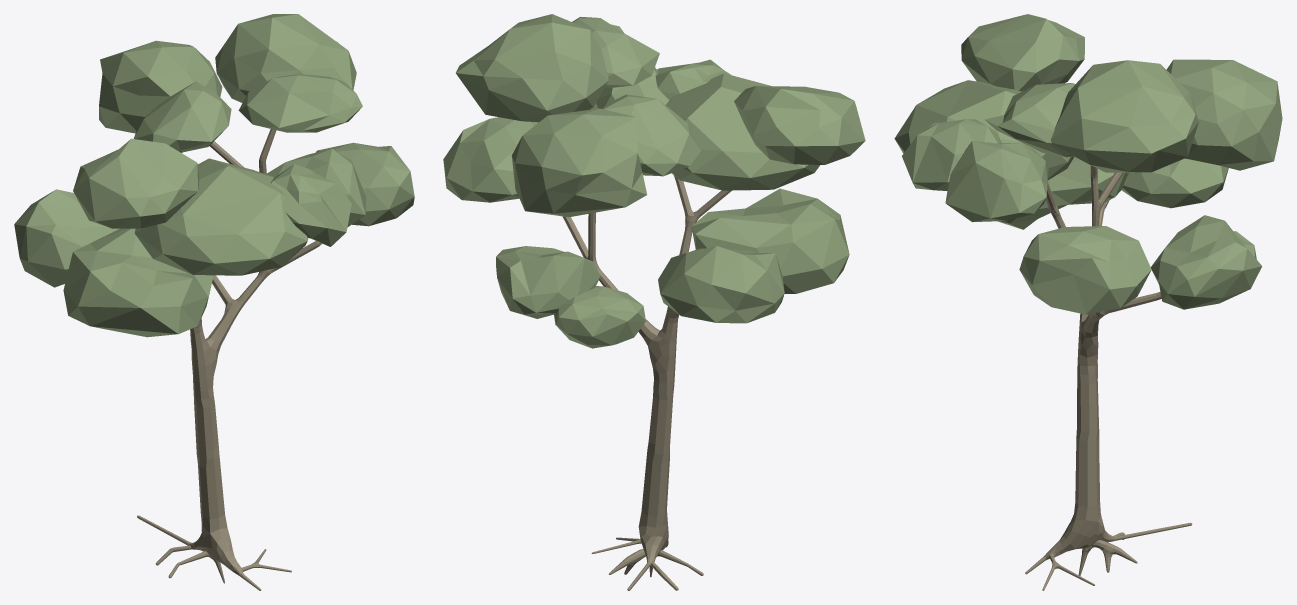
The model's file is Beech3NA.fbx.
3 renders of one model, left to right at view 1: azimuth 30°, elevation 25°; view 2: azimuth 150°, elevation 25°; view 3: azimuth 270°, elevation 25°, orthographic. The views are drawn at different scales.
Parts seen in each view (by area): view 1: Icosphere.033, Icosphere.036, Cube.002, Icosphere.034, Icosphere.030, Icosphere.027, Icosphere.029, Icosphere.035, Icosphere.028, Icosphere.031, Icosphere.026, Icosphere.032; view 2: Icosphere.027, Icosphere.030, Icosphere.036, Cube.002, Icosphere.033, Icosphere.034, Icosphere.035, Icosphere.025, Icosphere.026, Icosphere.028, Icosphere.024, Icosphere.029 (+2 smaller); view 3: Icosphere.030, Icosphere.027, Icosphere.026, Cube.002, Icosphere.034, Icosphere.025, Icosphere.032, Icosphere.033, Icosphere.031, Icosphere.035, Icosphere.029, Icosphere.036.
Boxes of the visible parts, x1,y1,x2,y2 form: Icosphere.033: (134,158,308,275); Icosphere.036: (63,228,213,337); Cube.002: (137,129,321,590); Icosphere.034: (73,138,199,228); Icosphere.030: (215,14,356,102); Icosphere.027: (99,40,222,133); Icosphere.029: (238,74,362,132); Icosphere.035: (14,189,119,287); Icosphere.028: (133,81,231,152); Icosphere.031: (271,164,351,246); Icosphere.026: (316,142,414,226); Icosphere.032: (266,148,366,227); Icosphere.027: (511,108,647,217); Icosphere.030: (456,14,608,122); Icosphere.036: (691,188,849,293); Cube.002: (562,175,731,590); Icosphere.033: (666,73,819,190); Icosphere.034: (734,86,865,164); Icosphere.035: (658,246,784,323); Icosphere.025: (496,246,600,318); Icosphere.026: (443,117,538,202); Icosphere.028: (603,94,701,176); Icosphere.024: (554,286,645,348); Icosphere.029: (572,16,659,87); Icosphere.030: (1051,60,1198,172); Icosphere.027: (1166,59,1282,170); Icosphere.026: (1019,226,1151,314); Cube.002: (1025,165,1192,590); Icosphere.034: (961,14,1084,91); Icosphere.025: (1151,215,1262,309); Icosphere.032: (945,141,1048,222); Icosphere.033: (894,80,1073,179); Icosphere.031: (902,119,1001,190); Icosphere.035: (1121,158,1228,208); Icosphere.029: (985,83,1075,157); Icosphere.036: (998,157,1128,229).
Size of the model in its own units: 2944 by 4240 by 2692.
